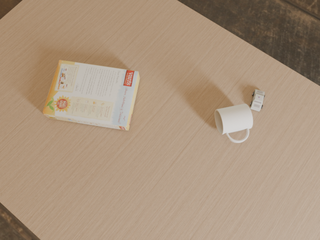box: (43, 60, 140, 130)
cup: (215, 104, 253, 143)
toy_car: (250, 89, 265, 111)
